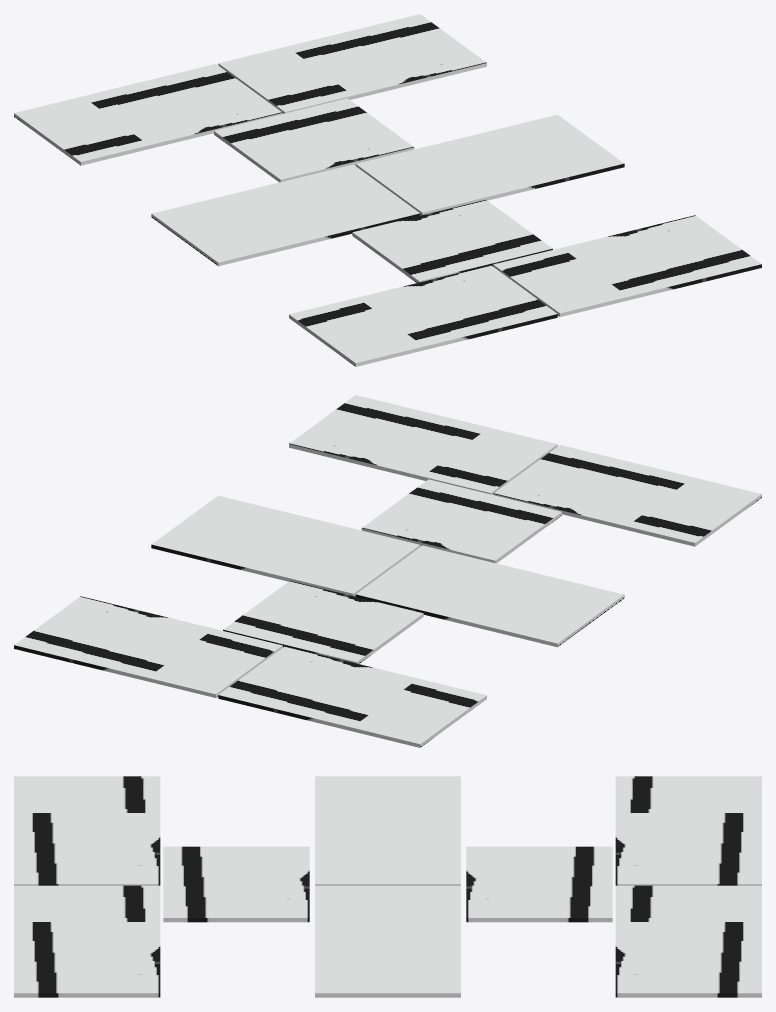
File: Roof Tiles.FBX
3 views of the same model, one above another, from view 1: azimuth 30°, elevation 25°; view 2: azimuth 150°, elevation 25°; view 3: azimuth 270°, elevation 25° (orthographic). The views are drawn at different scales.
Visible parts, largest first — view 1: Object045; view 2: Object045; view 3: Object045.
Boxes of the visible parts, x1,y1,x2,y2 form: Object045: (14,14,761,366); Object045: (14,395,761,747); Object045: (14,776,761,997).
Bounding box in the file's own units: 20.15 × 0.1767 × 29.37.
